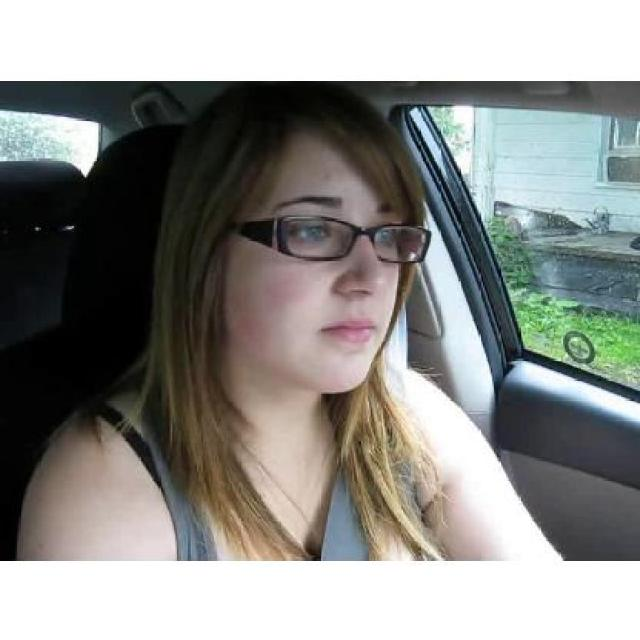attentif: (202, 82, 432, 395)
